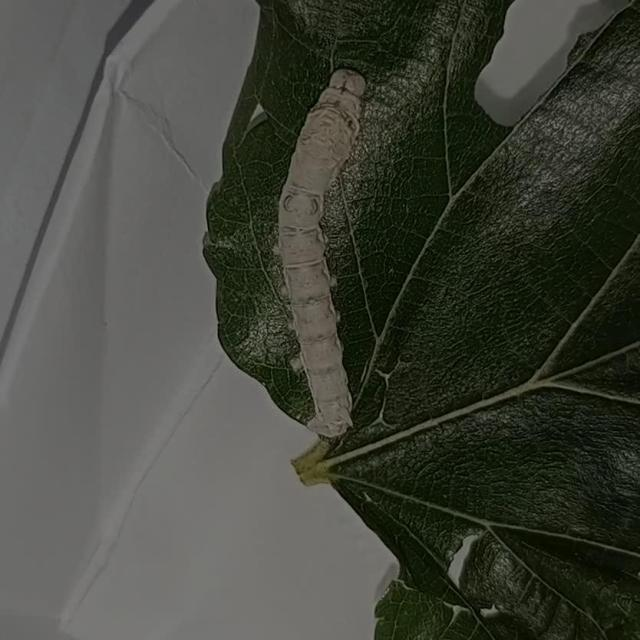Healthy: (188, 43, 472, 496)
